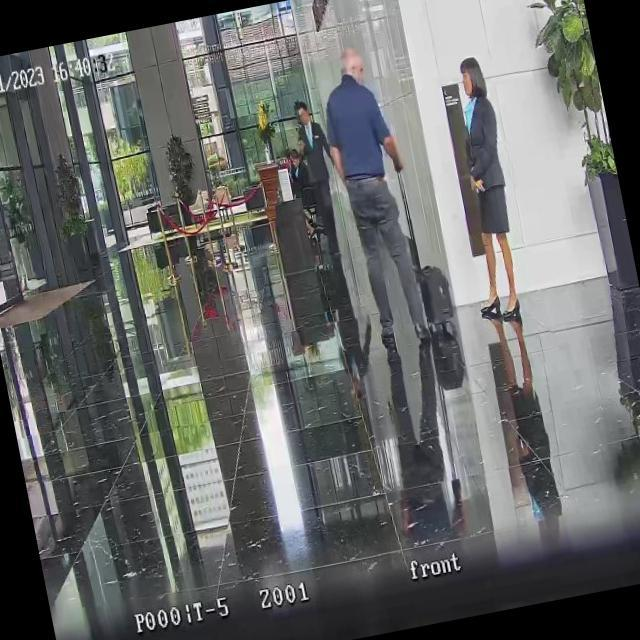person: (311, 39, 439, 358), (433, 54, 535, 325), (288, 96, 352, 262), (288, 146, 314, 204)
